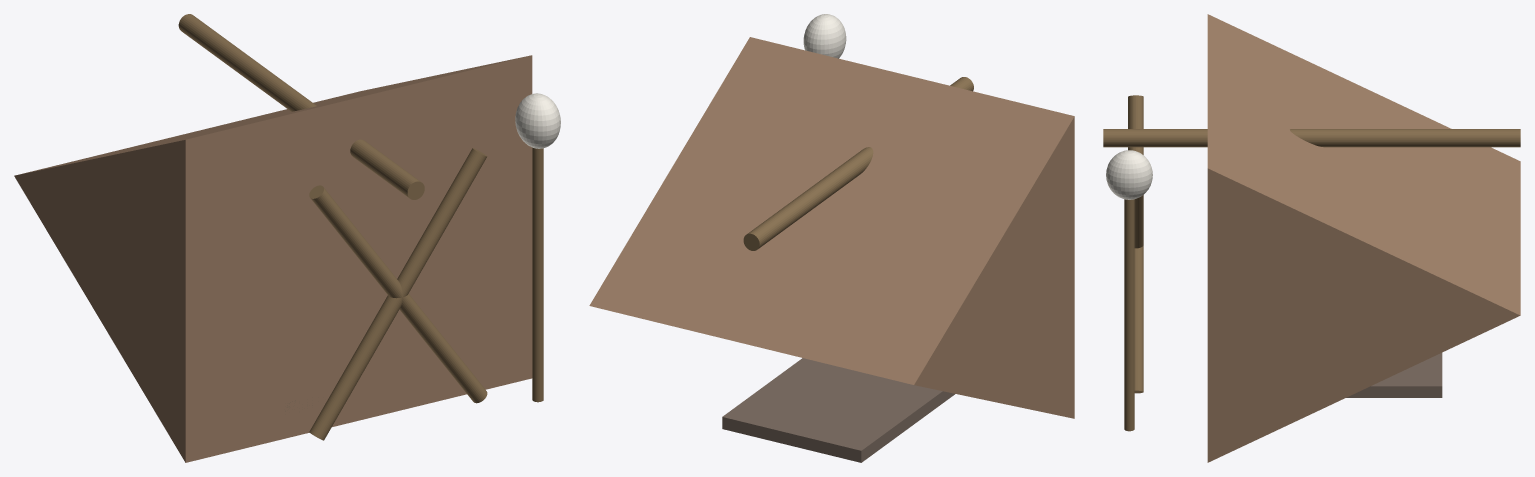
The model's file is bandit_tent.glb.
3 renders of one model, left to right at view 1: azimuth 30°, elevation 25°; view 2: azimuth 150°, elevation 25°; view 3: azimuth 270°, elevation 25°, orthographic. The views are drawn at different scales.
Visible parts, largest first — view 1: Cylinder, Cylinder.002, Cylinder.001, Cylinder.003, Cylinder.004, Sphere; view 2: Cylinder, Cube, Cylinder.001, Sphere; view 3: Cylinder, Cylinder.001, Cylinder.004, Cube, Cylinder.003, Sphere, Cylinder.002.
Part boxes in pixels (x1,y1,x2,y2): Cylinder: (14, 55, 532, 462); Cylinder.002: (309, 148, 487, 440); Cylinder.001: (178, 14, 424, 199); Cylinder.003: (309, 185, 487, 403); Cylinder.004: (532, 147, 543, 402); Sphere: (515, 93, 560, 148); Cylinder: (589, 37, 1074, 418); Cube: (722, 358, 954, 462); Cylinder.001: (743, 77, 973, 250); Sphere: (803, 14, 846, 58); Cylinder: (1207, 14, 1520, 462); Cylinder.001: (1103, 129, 1520, 147); Cylinder.004: (1124, 199, 1134, 431); Cube: (1346, 353, 1442, 397); Cylinder.003: (1128, 95, 1143, 393); Sphere: (1106, 150, 1152, 199); Cylinder.002: (1134, 195, 1143, 248).
Size of the model in its own units: 2.8 by 2.5 by 3.2.
